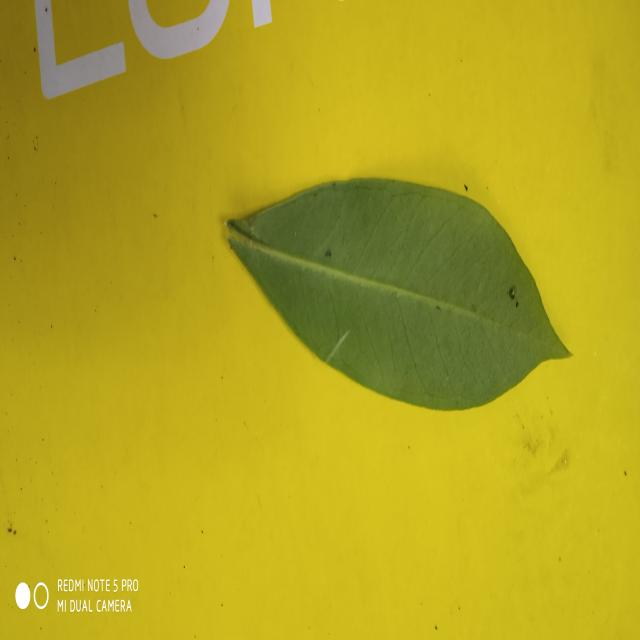nerale: (228, 180, 570, 409)
